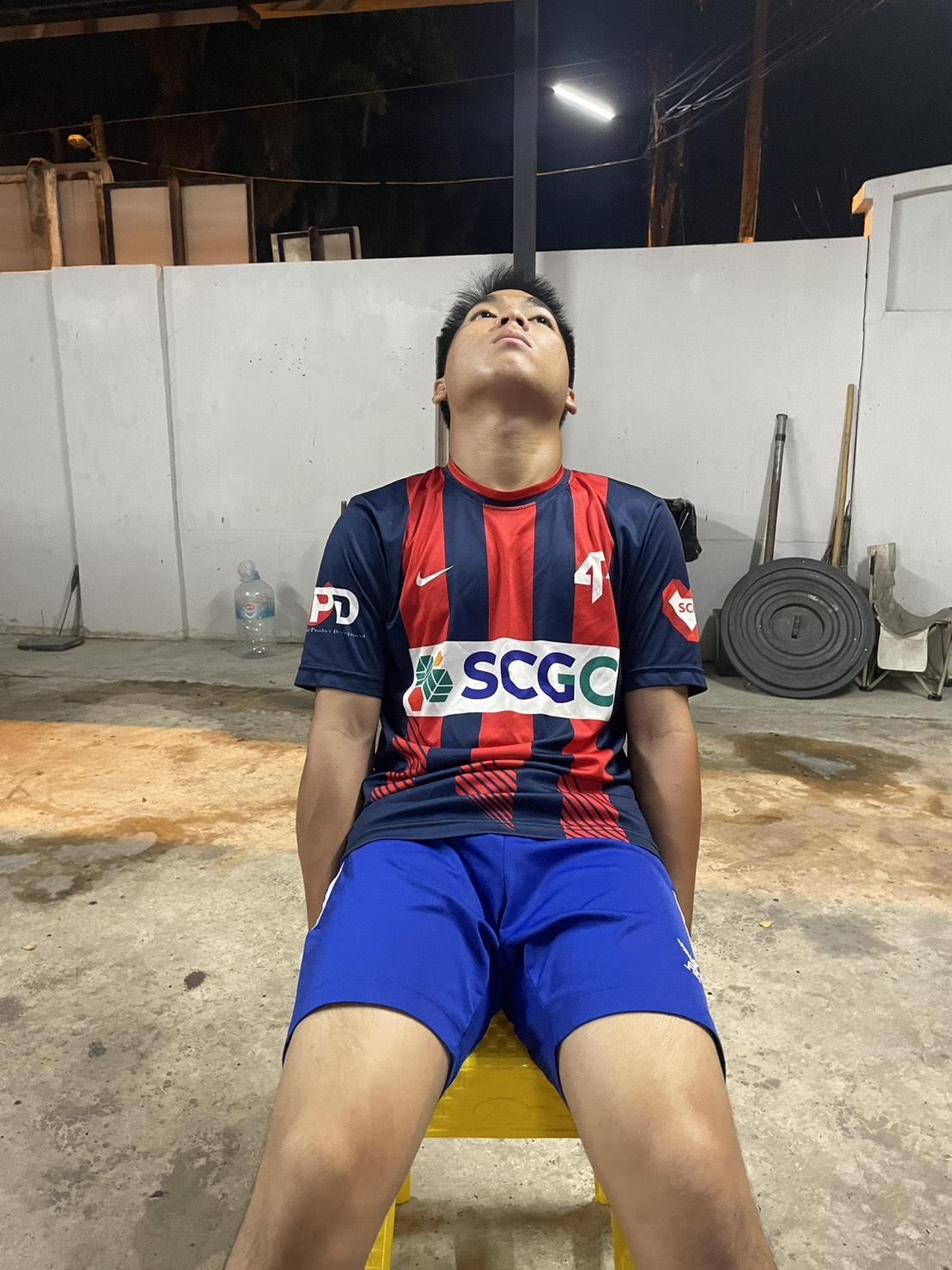BadPosture: (296, 268, 705, 857)
